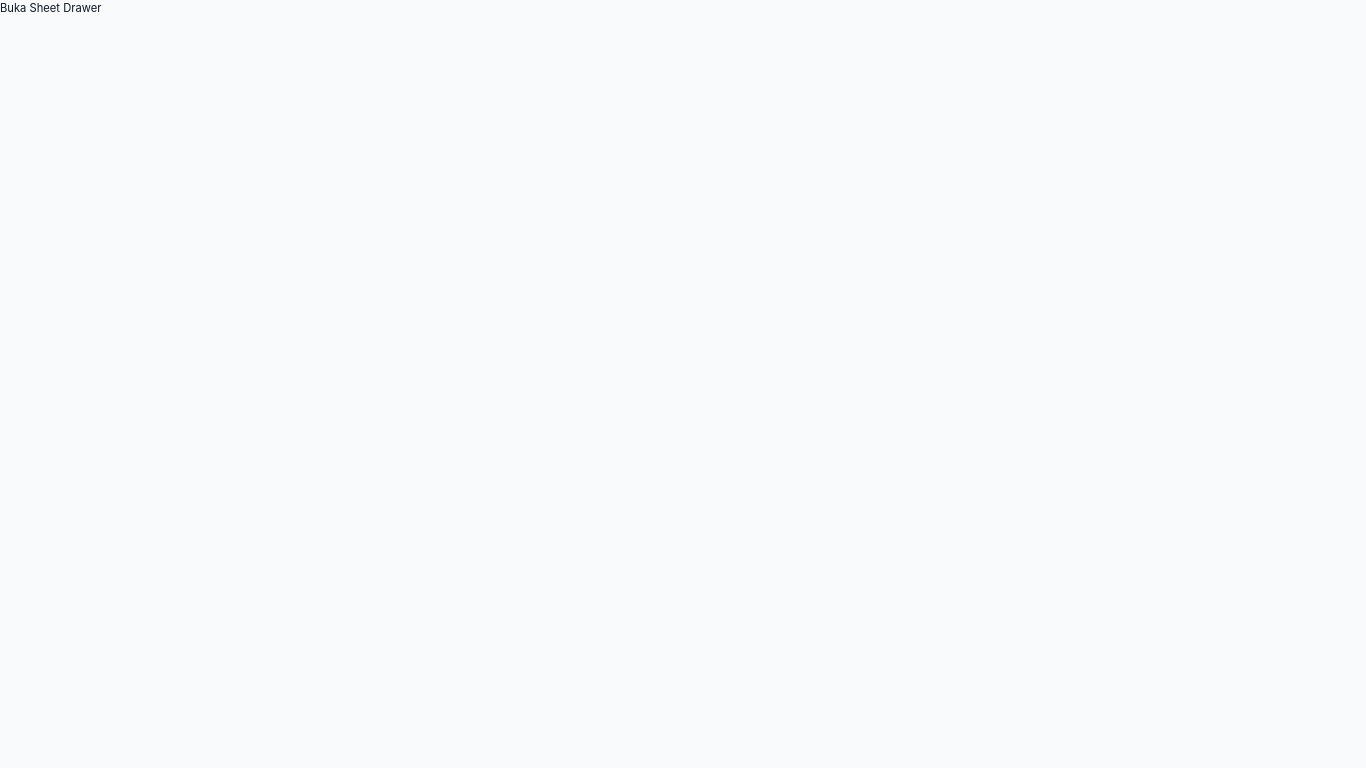
it: overlay focus restoration & accessible semantics › restores focus to SheetTrigger after Sheet is closed with Escape
This screenshot has width=1366, height=768.
Later steps or results of the test are not shown.
What coordinates should you click on to do the following:
click the button "Buka Sheet Drawer"
I would click on:
 (51, 8)
Its box is x1=0 y1=0 x2=101 y2=17.
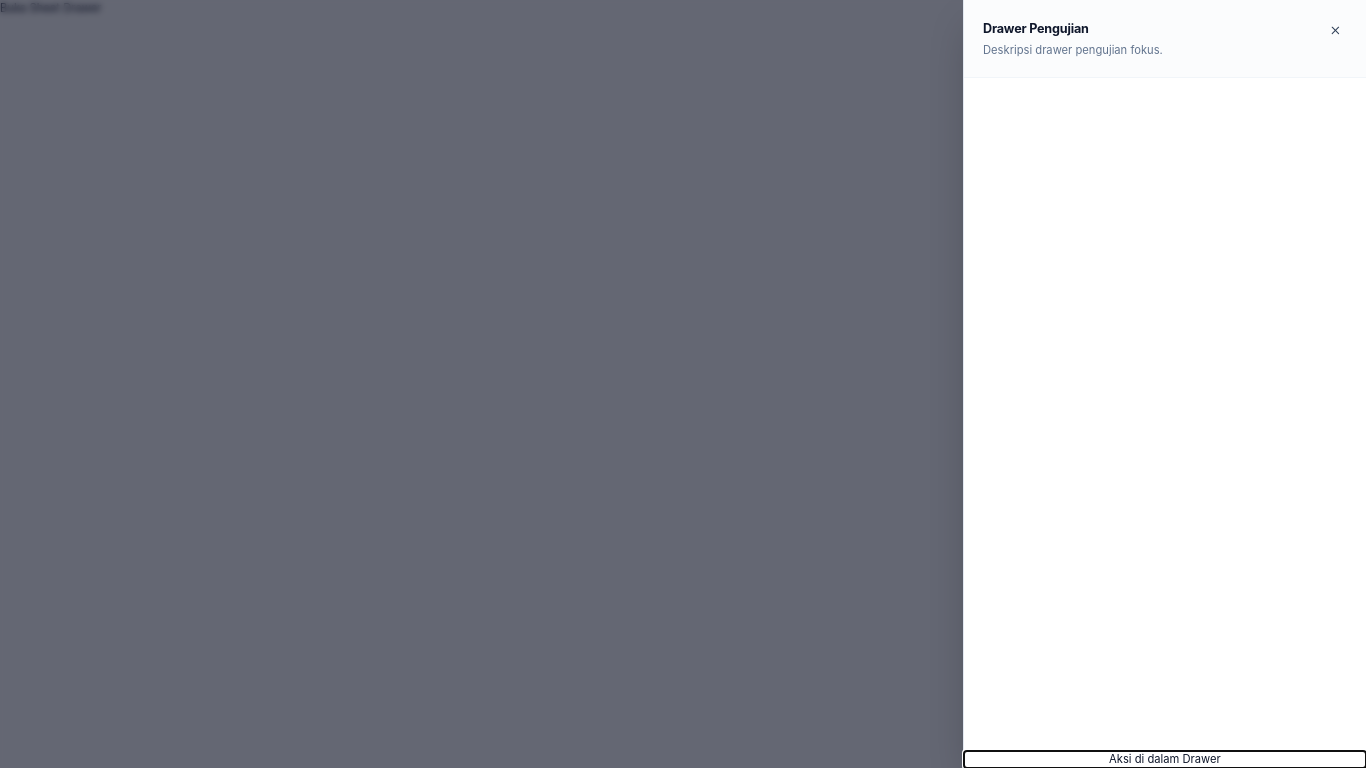
Now the dialog is shown, box x1=963 y1=0 x2=1365 y2=767
